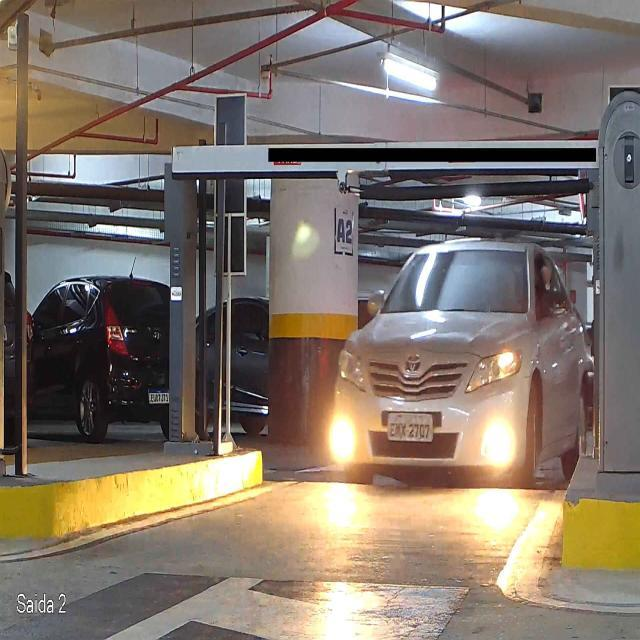old_plate: (386, 412, 436, 444)
